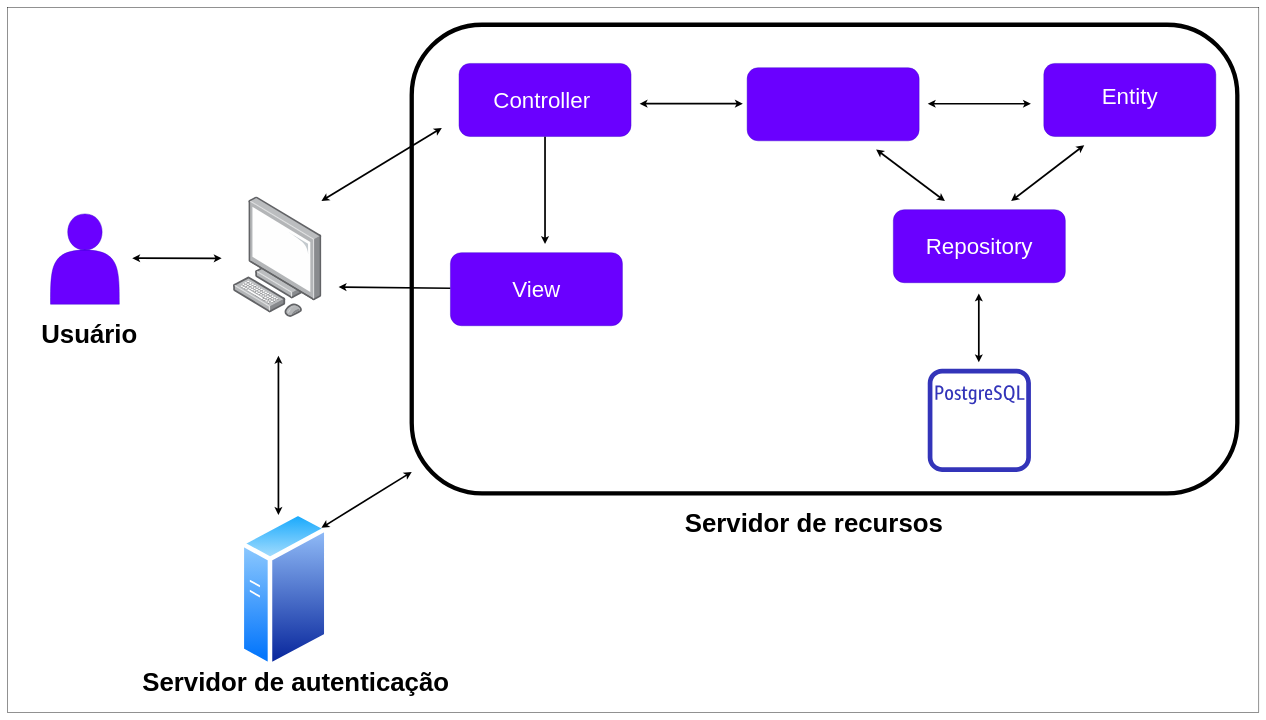
Some shapes in this 1266 by 720 pixel diagram are drawn without their labels. Here are the shapes that lost their labels. From the top down, the box of each, then its label:
(747, 67, 919, 141): Service
(233, 197, 322, 317): Cliente OAuth2
